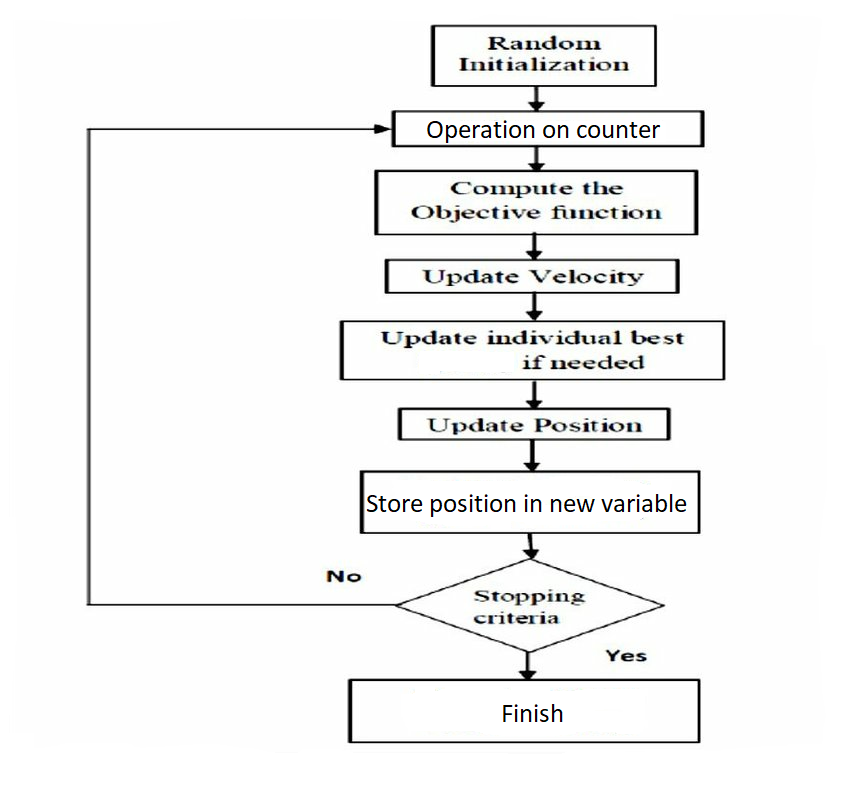arrow: (79, 120, 405, 610), (516, 649, 541, 680), (521, 230, 543, 264), (523, 377, 544, 411), (524, 143, 546, 173), (521, 528, 540, 562), (526, 83, 546, 115), (524, 292, 544, 323)
decision: (394, 559, 667, 652)
process: (343, 675, 703, 746), (335, 317, 727, 382), (356, 467, 705, 537), (367, 165, 703, 237), (426, 20, 662, 89), (388, 104, 710, 148), (379, 254, 683, 298), (393, 403, 673, 445)
text: (379, 326, 685, 370), (408, 175, 663, 224), (455, 31, 633, 74), (359, 494, 687, 515), (422, 118, 663, 143), (423, 413, 644, 438), (468, 583, 589, 628), (419, 264, 645, 288), (497, 700, 563, 723), (321, 567, 369, 587), (601, 648, 649, 667)
